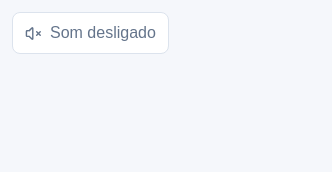
Scenario: ActivitySoundToggle › persists the new preference when toggled on
Click the button with aria-label "Ativar efeitos sonoros".
click(90, 33)  # box [12,12,169,54]
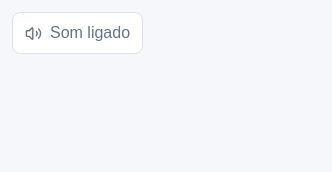
Now the button with aria-label "Desativar efeitos sonoros" is pressed, box [12,12,143,54]
